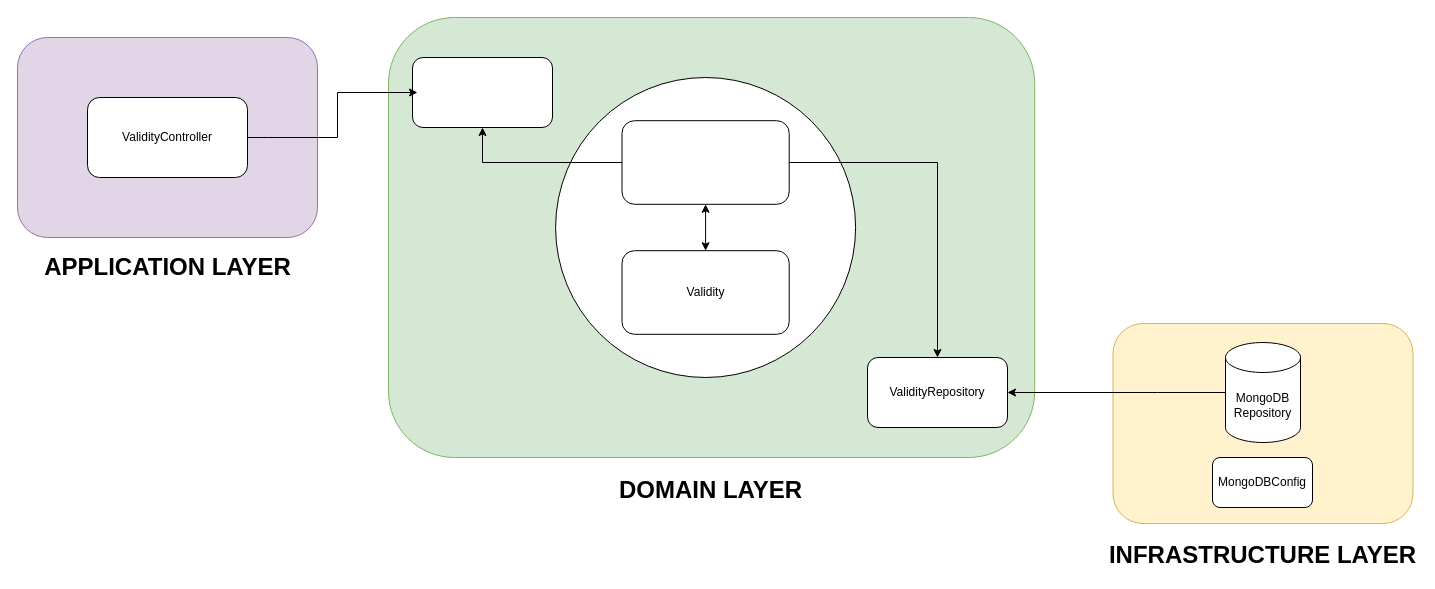
This 1435x589 diagram has some shape labels left out. The centre of each missing label's shape, as x and y in pixels:
DomainValidityService: pixel 705 162
ValidityService: pixel 482 92
